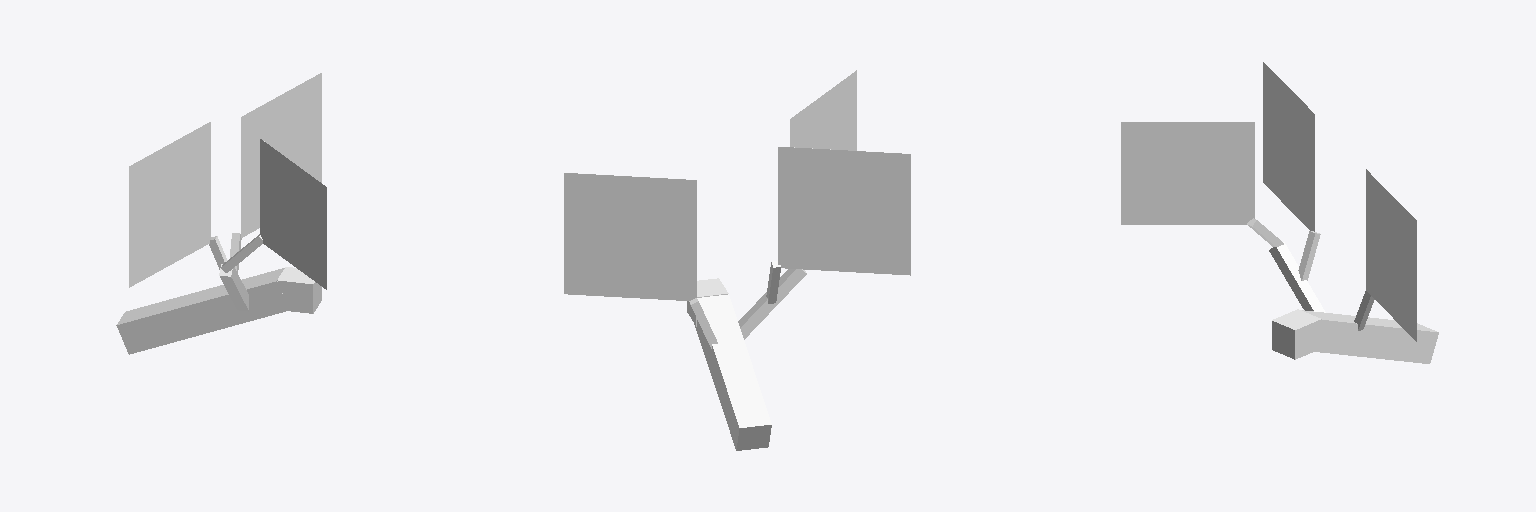
The model's file is diagonal_oak_branch_22_45_branches.obj.
3 renders of one model, left to right at view 1: azimuth 30°, elevation 25°; view 2: azimuth 150°, elevation 25°; view 3: azimuth 270°, elevation 25°, orthographic.
Parts seen in each view (by area): view 1: halfbeam.006, halfbeam.005, halfbeam.007, halfbeam, halfbeam.000, halfbeam.001, halfbeam.002; view 2: halfbeam.006, halfbeam.007, halfbeam, halfbeam.005, halfbeam.000, halfbeam.002, halfbeam.001; view 3: halfbeam.005, halfbeam.006, halfbeam.007, halfbeam, halfbeam.001, halfbeam.002, halfbeam.000, halfbeam.003.
Part boxes in pixels (left/top/right/bottom): halfbeam.006: left=129, top=122, right=210, bottom=287; halfbeam.005: left=260, top=139, right=326, bottom=289; halfbeam.007: left=241, top=73, right=321, bottom=237; halfbeam: left=158, top=268, right=289, bottom=342; halfbeam.000: left=116, top=301, right=169, bottom=354; halfbeam.001: left=277, top=267, right=321, bottom=313; halfbeam.002: left=219, top=264, right=248, bottom=311; halfbeam.006: left=778, top=147, right=910, bottom=275; halfbeam.007: left=564, top=173, right=696, bottom=300; halfbeam: left=694, top=294, right=760, bottom=415; halfbeam.005: left=790, top=70, right=856, bottom=150; halfbeam.000: left=725, top=391, right=771, bottom=450; halfbeam.002: left=738, top=269, right=806, bottom=339; halfbeam.001: left=687, top=278, right=728, bottom=326; halfbeam.005: left=1121, top=122, right=1254, bottom=224; halfbeam.006: left=1263, top=62, right=1314, bottom=231; halfbeam.007: left=1366, top=169, right=1416, bottom=341; halfbeam: left=1302, top=310, right=1407, bottom=360; halfbeam.001: left=1272, top=309, right=1321, bottom=359; halfbeam.002: left=1269, top=242, right=1325, bottom=312; halfbeam.000: left=1386, top=319, right=1438, bottom=363; halfbeam.003: left=1298, top=231, right=1320, bottom=280.
Bounding box in the file's own units: 2.32 × 2.13 × 2.37.